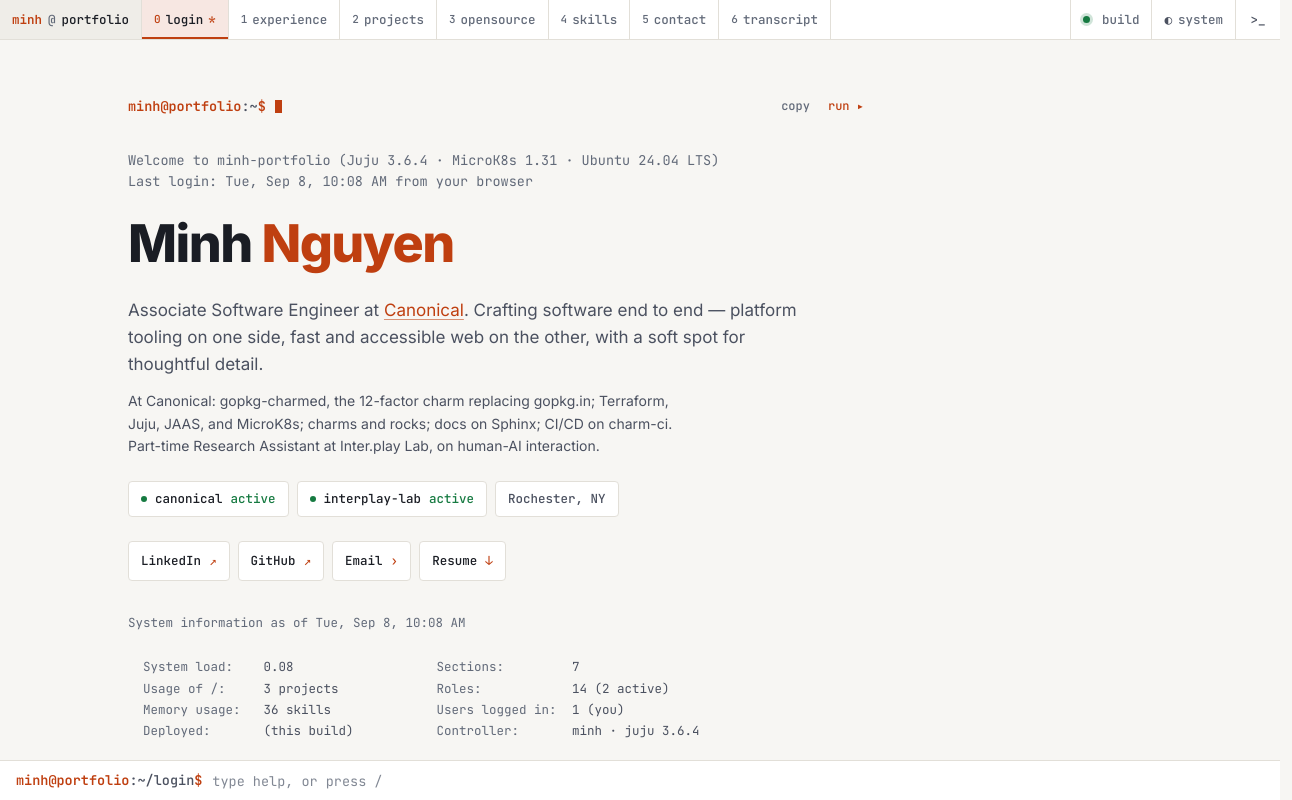
Test: `juju logout` locks the hero again
The image size is (1292, 800).
In the field named "command input": {"x": 737, "y": 780} x1=210 y1=761 x2=1264 y2=799, type "juju logout"
Then press Enter
(page scrolled)
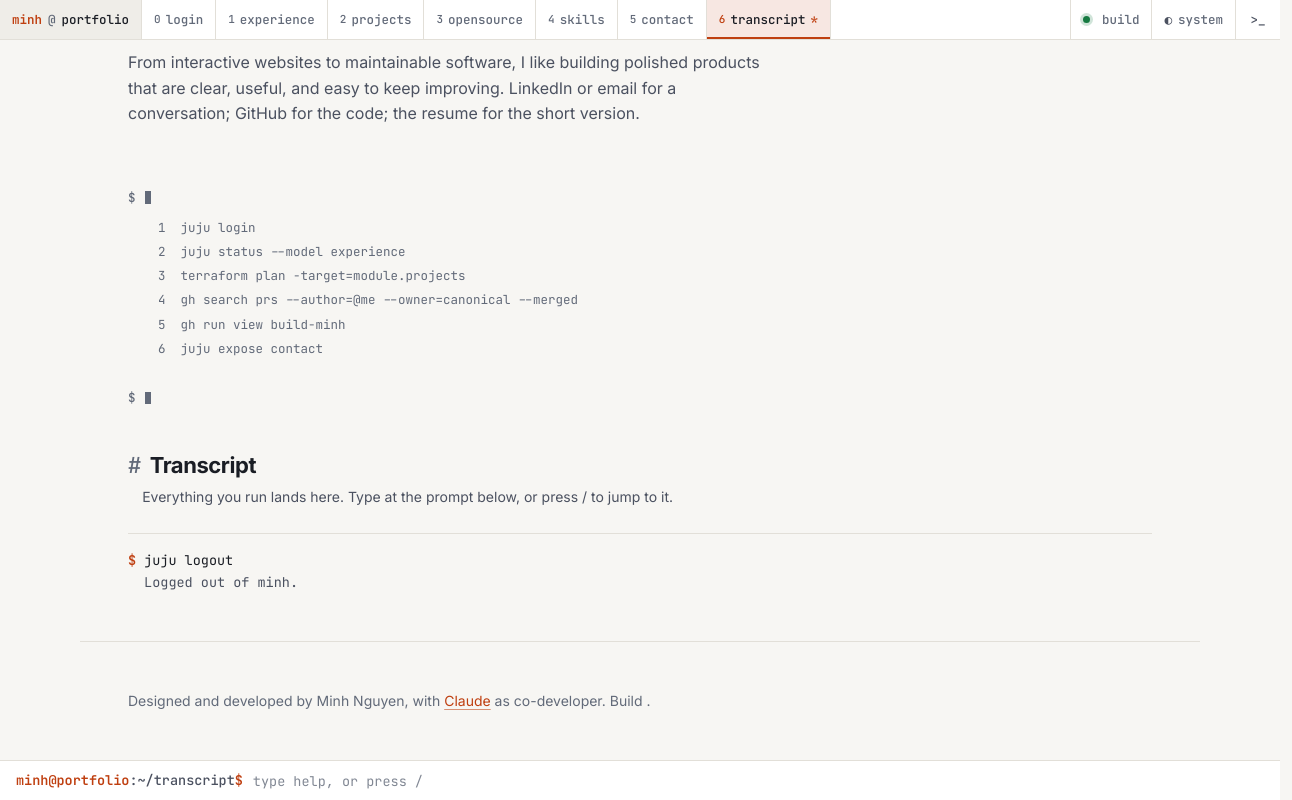
expect the text "Logged out of minh." is shown: met, box x1=144 y1=573 x2=298 y2=591
